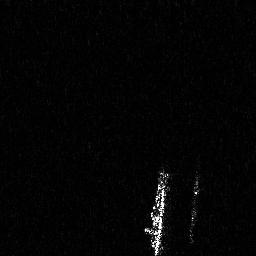ship: (148, 168, 172, 254)
